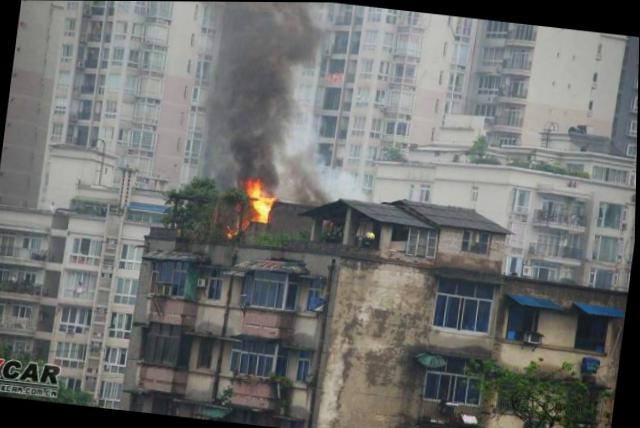fire: (251, 195, 271, 224), (243, 177, 261, 196)
